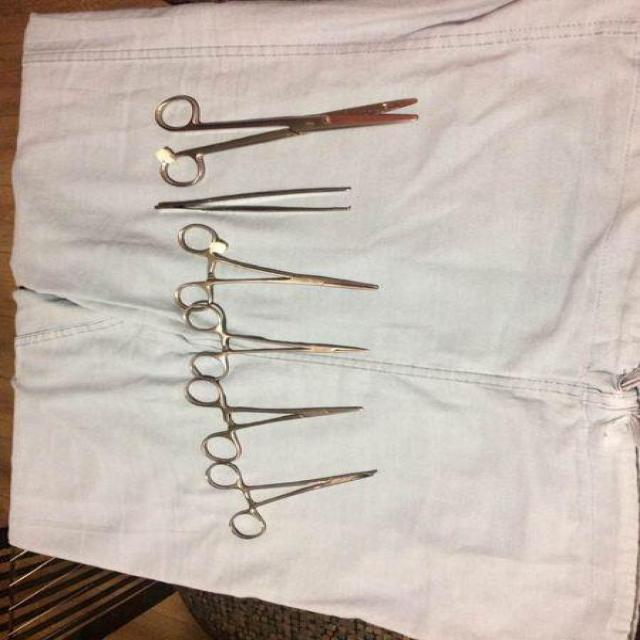Forceps: (152, 184, 356, 216)
Hemostat: (172, 222, 383, 312), (183, 375, 367, 463), (182, 302, 371, 381), (203, 461, 380, 543)
Mayo_metz: (154, 93, 422, 190)
